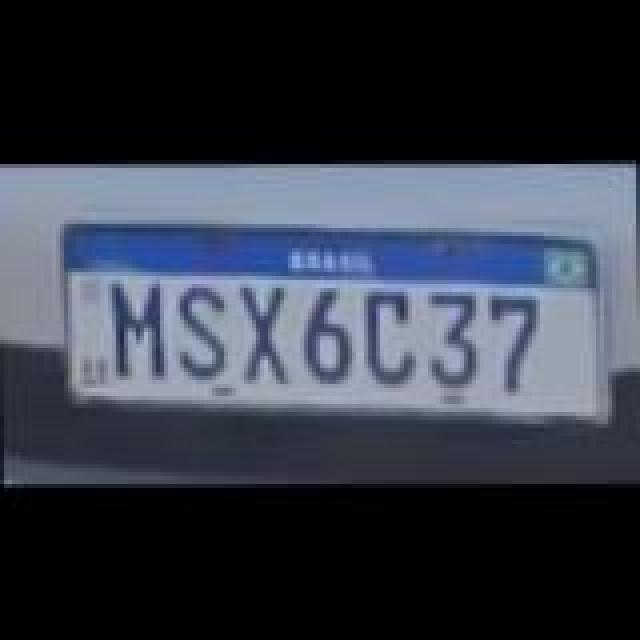3: (426, 290, 486, 390)
6: (300, 288, 356, 384)
7: (488, 292, 544, 392)
C: (362, 286, 422, 382)
M: (110, 280, 170, 380)
S: (168, 284, 232, 380)
X: (238, 282, 298, 382)
